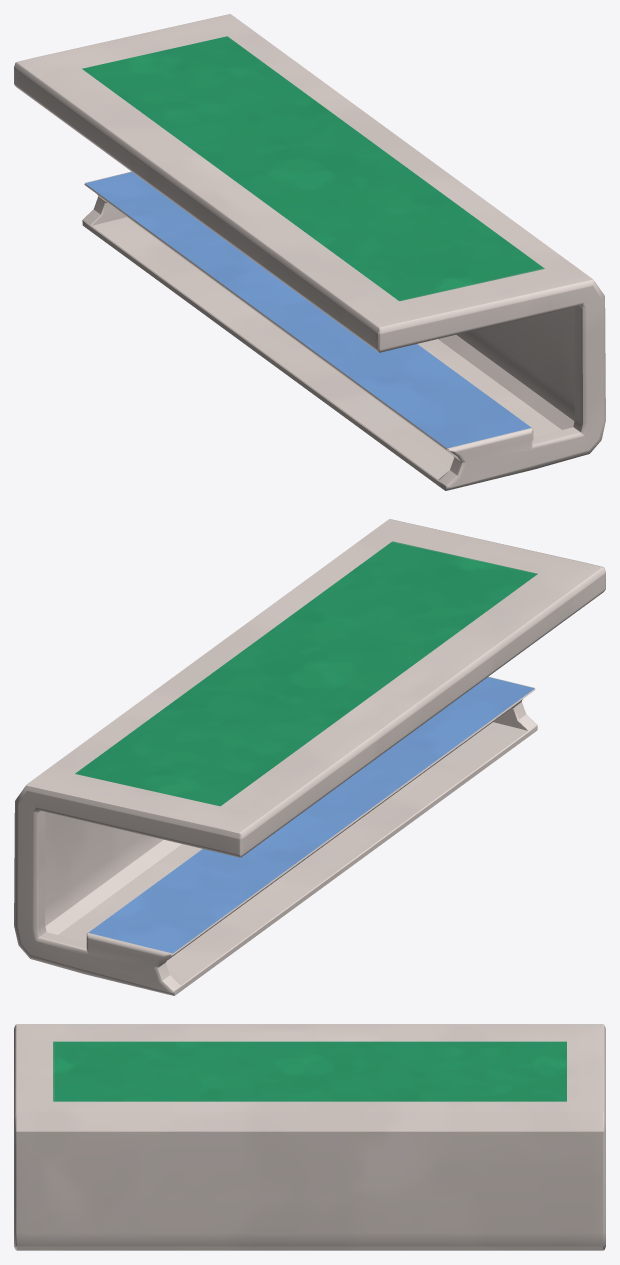
Rendered from Durak.fbx.
The picture shows the model from 3 angles, top to bottom: view 1: azimuth 30°, elevation 25°; view 2: azimuth 150°, elevation 25°; view 3: azimuth 270°, elevation 25°; orthographic projection. The views are drawn at different scales.
Parts seen in each view (by area): view 1: Durak; view 2: Durak; view 3: Durak.
Part boxes in pixels (x1,y1,x2,y2): Durak: [14, 14, 605, 490]; Durak: [14, 519, 605, 995]; Durak: [14, 1024, 605, 1250].
Size of the model in its own units: 13.27 by 9.94 by 36.76.
